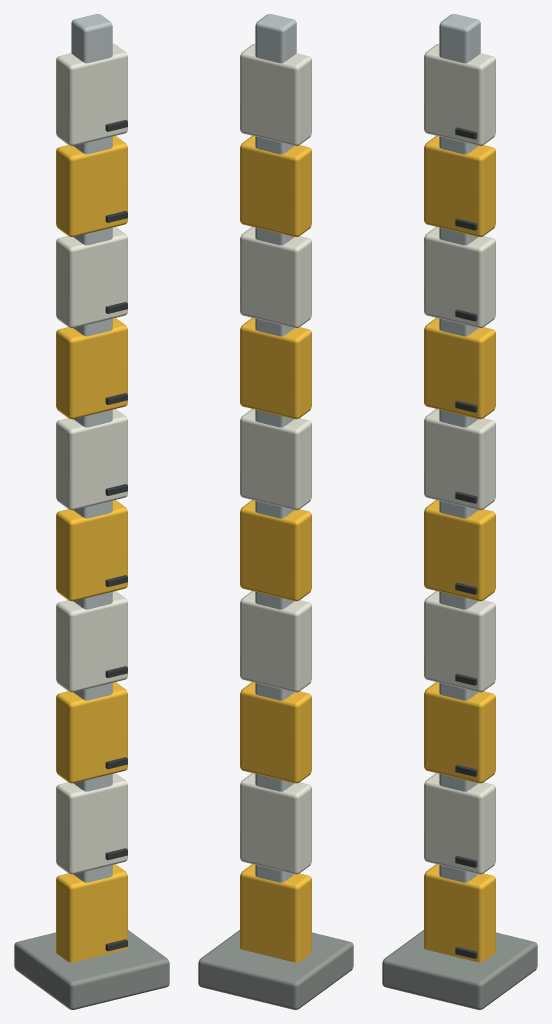
The model's file is mountain-border-checkpoint-mountain-border-checkpoint--537c8f66__30324.glb.
3 renders of one model, left to right at view 1: azimuth 30°, elevation 25°; view 2: azimuth 150°, elevation 25°; view 3: azimuth 330°, elevation 25°, orthographic.
Parts seen in each view (by area): view 1: mountain-border-checkpoint-snow-depth-marker; view 2: mountain-border-checkpoint-snow-depth-marker; view 3: mountain-border-checkpoint-snow-depth-marker.
Part boxes in pixels (left/top/right/bottom): mountain-border-checkpoint-snow-depth-marker: left=14, top=14, right=169, bottom=1009; mountain-border-checkpoint-snow-depth-marker: left=198, top=14, right=353, bottom=1009; mountain-border-checkpoint-snow-depth-marker: left=382, top=14, right=537, bottom=1009.
Bounding box in the file's own units: 0.22 × 2 × 0.22.
